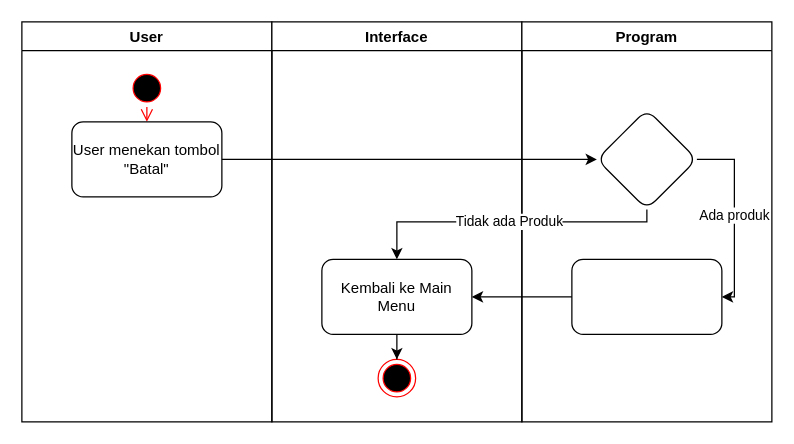
Image size: 794x444. Some labels were removed from this diagram. The shapes that lost their labels are listed below. From the top down, each one's centre as x and y in pixels, then its label:
the point at 646,158: Validasi Keranjang
the point at 646,296: Mengembalikan produk yang ada di keranjang
